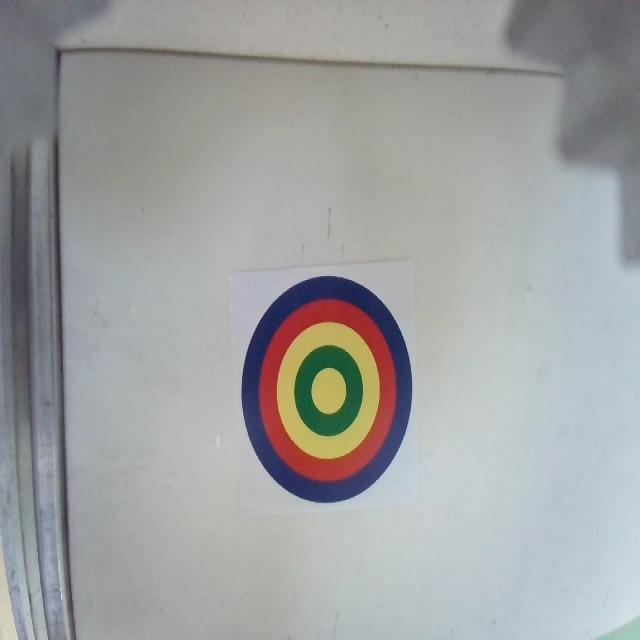cogn: (240, 274, 414, 505)
